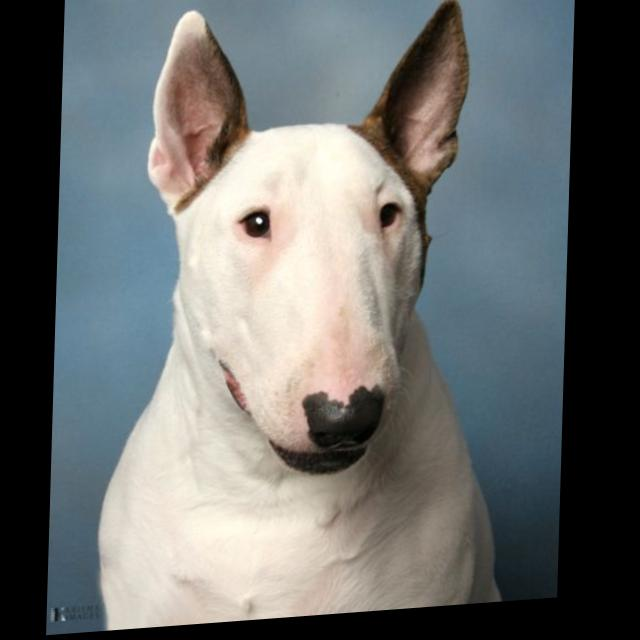bullterrier: (98, 1, 539, 634)
